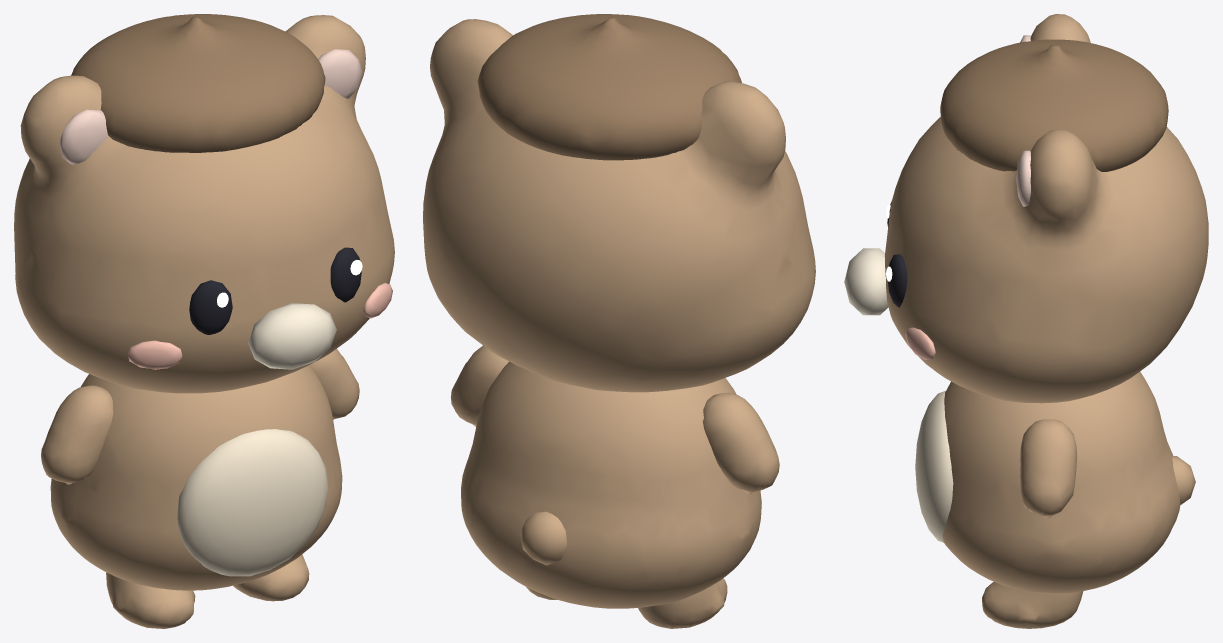
The model's file is dotori.glb.
3 views of the same model, side by side, from view 1: azimuth 30°, elevation 25°; view 2: azimuth 150°, elevation 25°; view 3: azimuth 270°, elevation 25° (orthographic). The views are drawn at different scales.
Parts seen in each view (by area): view 1: head_m, body_m, hx0, belly_m, armR_m, face_muzzle, legR_m, armL_m, hx2, legL_m, eye.001, hx1 (+3 smaller); view 2: head_m, body_m, hx0, armR_m, armL_m, legR_m, tail0_m; view 3: head_m, body_m, hx0, armL_m, belly_m, legL_m, face_muzzle, eye, tail0_m, hx1, cheek.
Part boxes in pixels (x1,y1,x2,y2): head_m: (14,15,394,393); body_m: (50,365,342,590); hx0: (71,14,325,152); belly_m: (177,429,328,576); armR_m: (41,385,113,484); face_muzzle: (248,303,336,369); legR_m: (106,572,195,628); armL_m: (309,349,359,419); hx2: (59,109,107,164); legL_m: (233,554,309,601); eye.001: (189,280,232,334); hx1: (318,49,362,98); head_m: (423,19,815,392); body_m: (461,361,761,608); hx0: (477,14,741,160); armR_m: (702,393,779,494); armL_m: (450,345,508,426); legR_m: (638,578,727,628); tail0_m: (520,511,566,565); head_m: (884,14,1208,403); body_m: (942,371,1180,593); hx0: (940,39,1168,171); armL_m: (1020,419,1076,517); belly_m: (915,390,953,542); legL_m: (982,582,1083,628); face_muzzle: (844,248,888,315); eye: (888,254,907,307); tail0_m: (1172,456,1195,504); hx1: (1016,150,1030,206); cheek: (905,327,935,359).
Size of the model in its own units: 0.6888 by 1.12 by 0.6688.
